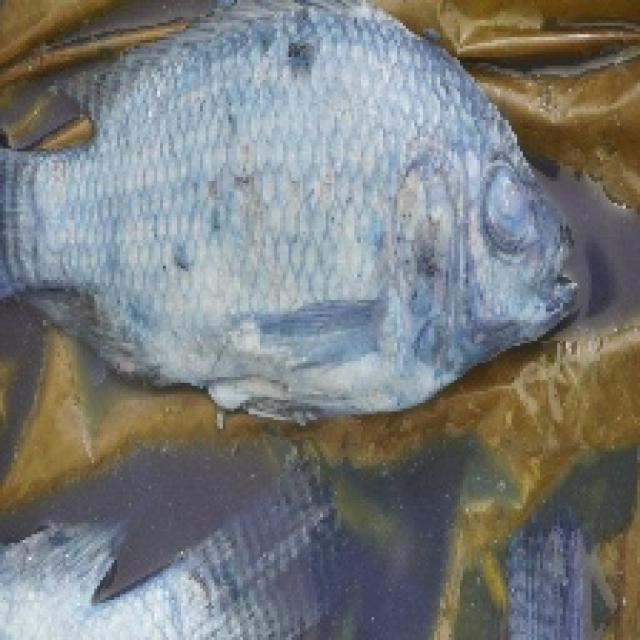Non-Fresh: (12, 3, 598, 433), (469, 156, 543, 269)
